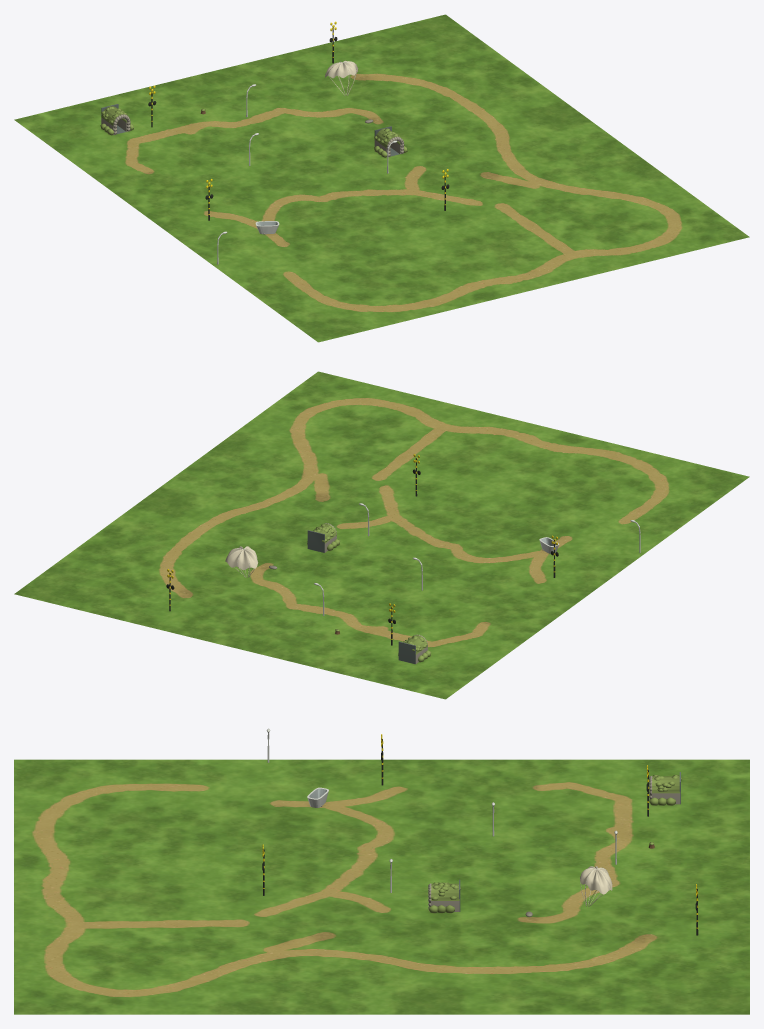
The model's file is terrain-props.glb.
The picture shows the model from 3 angles, top to bottom: view 1: azimuth 30°, elevation 25°; view 2: azimuth 150°, elevation 25°; view 3: azimuth 270°, elevation 25°; orthographic projection. The views are drawn at different scales.
Parts seen in each view (by area): view 1: hm03_ground_support, hm03_fixed_landmarks; view 2: hm03_ground_support, hm03_fixed_landmarks; view 3: hm03_ground_support, hm03_fixed_landmarks.
Boxes of the visible parts, x1=… form: hm03_ground_support: x1=14, y1=14, x2=749, y2=342; hm03_fixed_landmarks: x1=100, y1=21, x2=449, y2=264; hm03_ground_support: x1=14, y1=371, x2=749, y2=699; hm03_fixed_landmarks: x1=166, y1=454, x2=640, y2=664; hm03_ground_support: x1=14, y1=759, x2=749, y2=1014; hm03_fixed_landmarks: x1=262, y1=728, x2=698, y2=935.
Size of the model in its own units: 64 by 5.98 by 78.13.
Materials: 2 (1 with a texture image).
